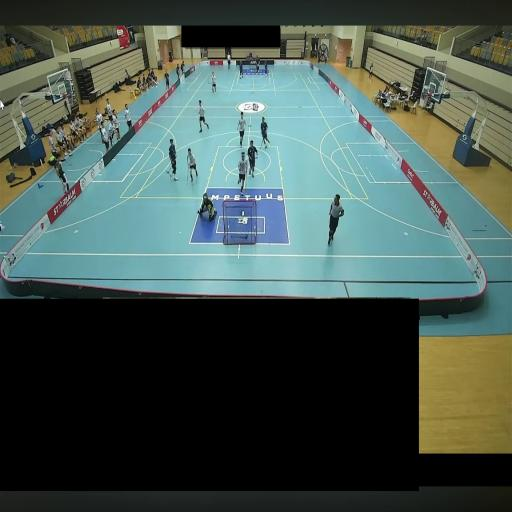Goalkeeper: (197, 192, 217, 221), (256, 55, 259, 70)
Player: (169, 138, 178, 180), (187, 148, 198, 182), (247, 140, 257, 177), (238, 151, 247, 192), (198, 100, 209, 132), (260, 117, 270, 148), (237, 113, 246, 146), (212, 72, 216, 93), (239, 61, 242, 78), (265, 60, 267, 74)
Referee: (328, 194, 344, 244), (227, 52, 230, 69)
ball: (179, 231, 181, 235)
